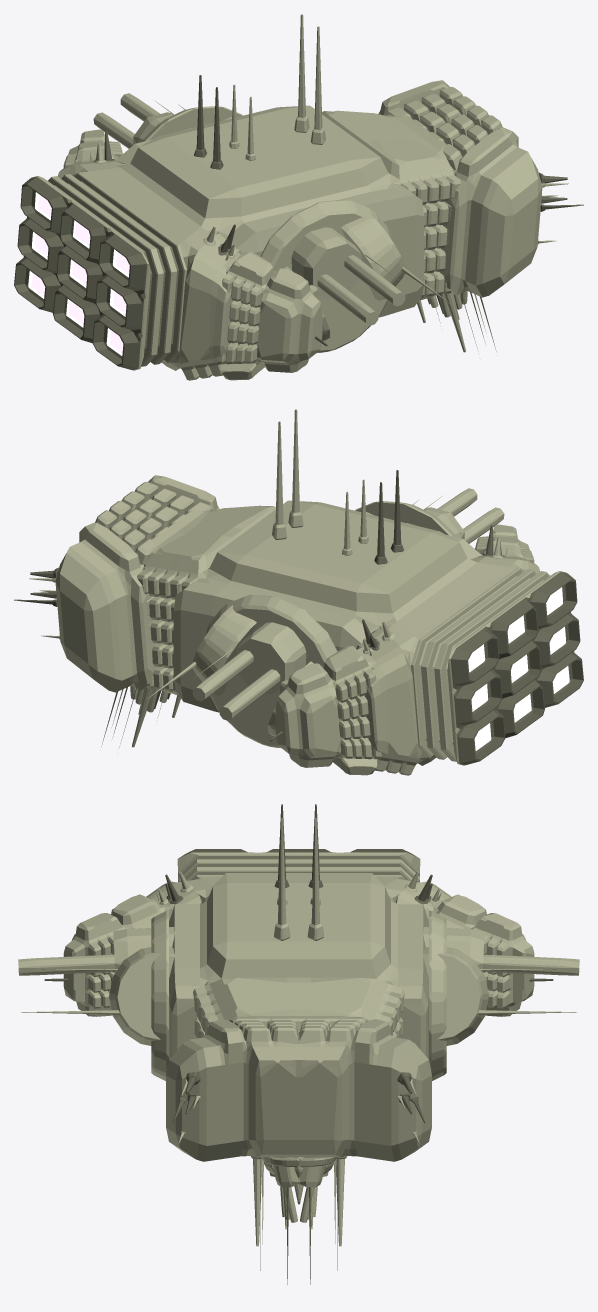
File: pvais8.fbx
3 views of the same model, one above another, from view 1: azimuth 30°, elevation 25°; view 2: azimuth 150°, elevation 25°; view 3: azimuth 270°, elevation 25° (orthographic). The views are drawn at different scales.
Visible parts, largest first — view 1: Spaceship; view 2: Spaceship; view 3: Spaceship.
Boxes of the visible parts, box(x1,y1,x2,y2) form: Spaceship: box(14, 14, 583, 380); Spaceship: box(14, 409, 583, 775); Spaceship: box(18, 804, 579, 1284).
Size of the model in its own units: 445 by 351 by 469.
